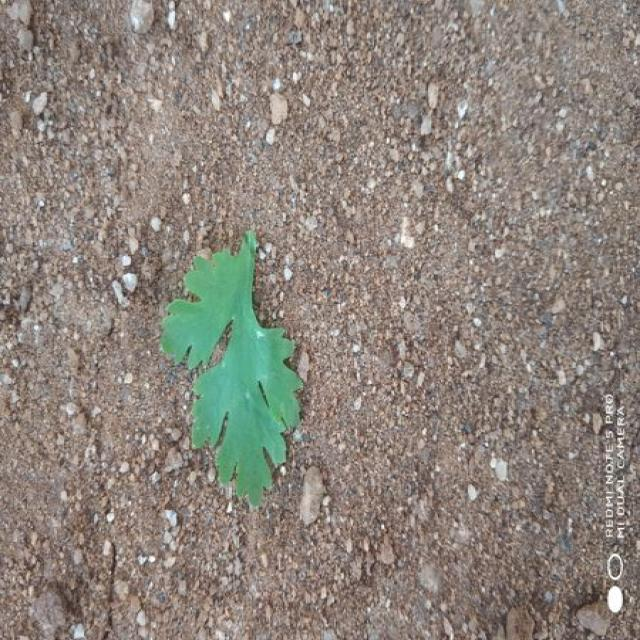coriender: (160, 231, 302, 506)
